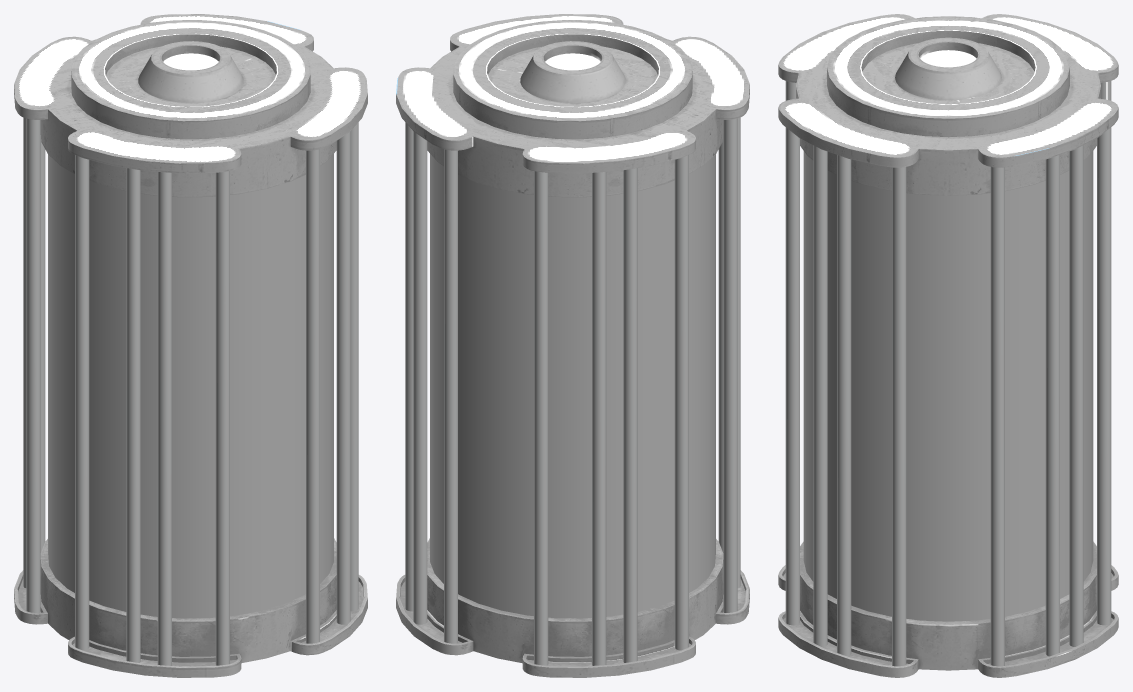
File: SM_LargeCylinderA.fbx
3 views of the same model, side by side, from view 1: azimuth 30°, elevation 25°; view 2: azimuth 150°, elevation 25°; view 3: azimuth 270°, elevation 25° (orthographic).
Visible parts, largest first — view 1: SM_LargeCylinderA_LOD0; view 2: SM_LargeCylinderA_LOD0; view 3: SM_LargeCylinderA_LOD0.
Part boxes in pixels (x1,y1,x2,y2): SM_LargeCylinderA_LOD0: [14, 14, 367, 677]; SM_LargeCylinderA_LOD0: [396, 14, 749, 677]; SM_LargeCylinderA_LOD0: [778, 14, 1118, 677].
Size of the model in its own units: 112 by 112 by 201.
2 materials, 1 textured.
